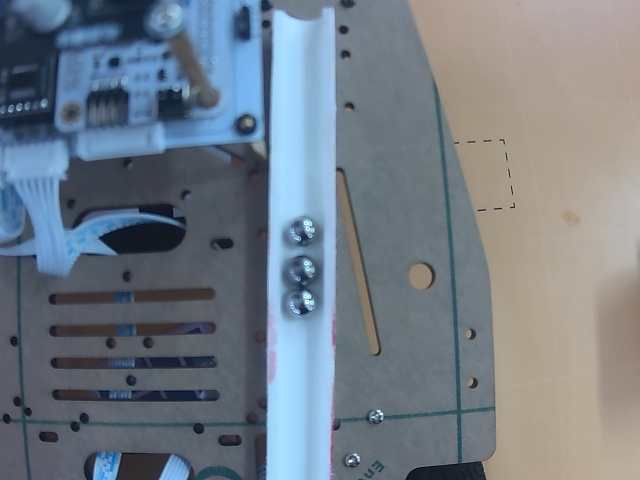steelball: (285, 289, 316, 319), (288, 257, 316, 287), (287, 218, 315, 243)
